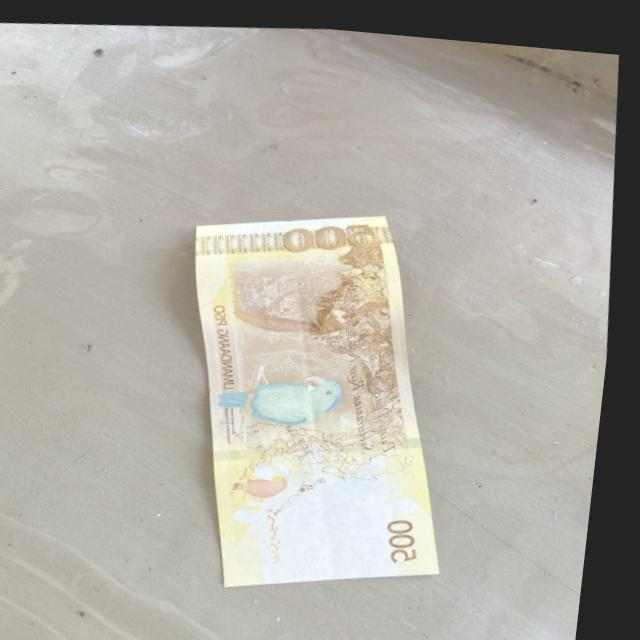500_big_parrot: (222, 355, 354, 427)
500_parrot_watermark: (231, 459, 304, 496)
value_watermark: (312, 543, 352, 562)
watermark: (284, 479, 408, 571)
